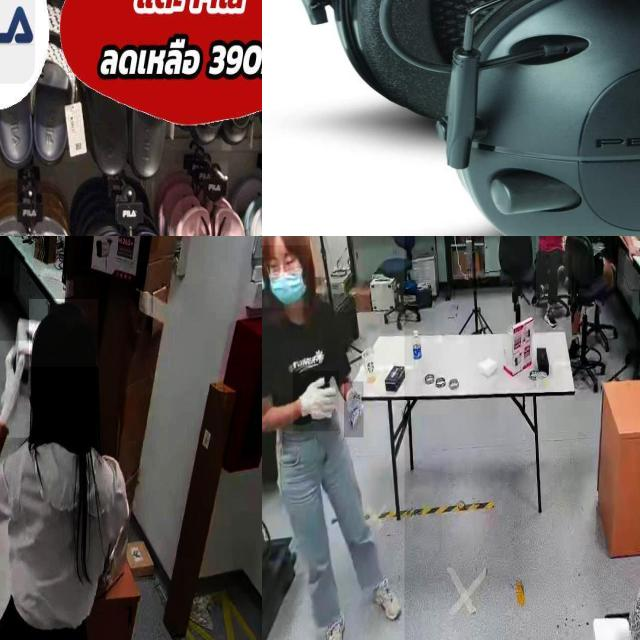Ear-protection: (454, 0, 640, 236), (297, 0, 572, 102)
Sandals: (177, 189, 241, 236)
face_mask: (265, 255, 309, 308)
hand_glove: (0, 340, 30, 437), (293, 371, 339, 431), (344, 382, 364, 438)
hand_noglove: (626, 245, 640, 260)
head_nohelmet: (29, 299, 99, 367), (262, 236, 309, 245)
person: (262, 236, 405, 640), (0, 297, 130, 640), (565, 236, 640, 369), (535, 236, 568, 315)
shoes: (369, 576, 403, 626), (322, 603, 349, 640), (543, 305, 559, 331)
